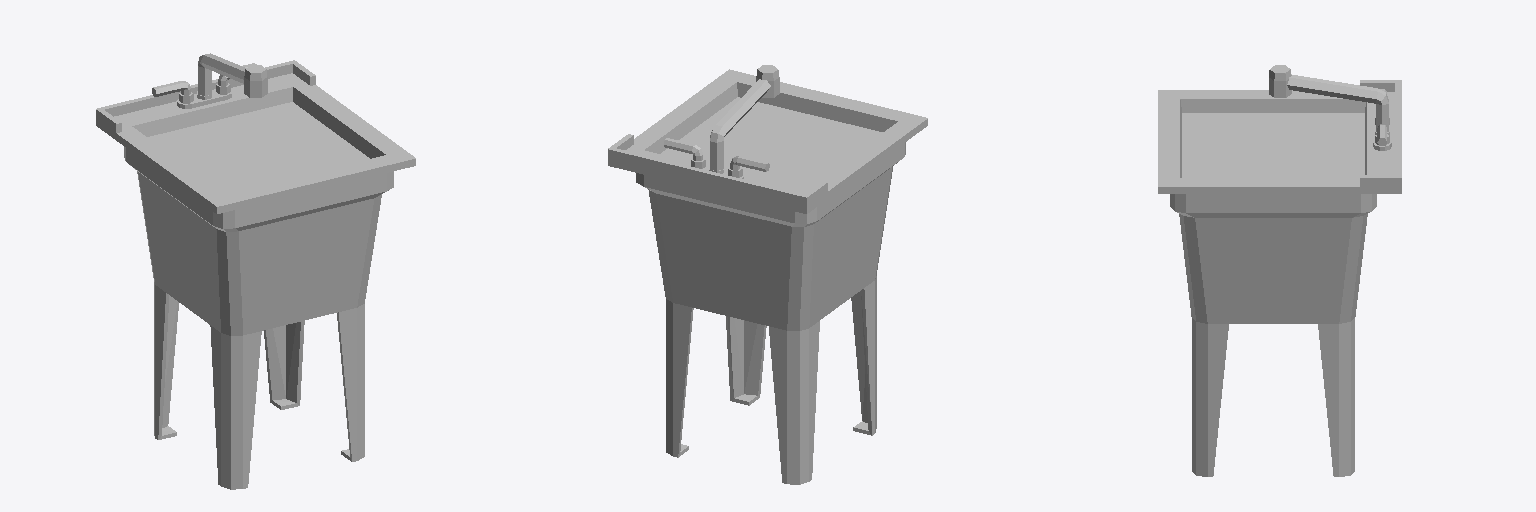
File: Sink.obj
The picture shows the model from 3 angles: view 1: azimuth 30°, elevation 25°; view 2: azimuth 150°, elevation 25°; view 3: azimuth 270°, elevation 25°; orthographic projection.
Visible parts, largest first — view 1: Cube; view 2: Cube; view 3: Cube.
Part boxes in pixels (x1,y1,x2,y2): Cube: (96, 53, 415, 489); Cube: (608, 65, 927, 484); Cube: (1158, 65, 1401, 476).
Size of the model in its own units: 8.88 by 15.91 by 9.38.